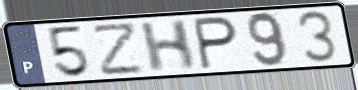3: (295, 9, 340, 65)
5: (44, 24, 94, 80)
9: (246, 10, 291, 70)
H: (138, 17, 198, 75)
P: (191, 15, 240, 72)
Z: (90, 20, 146, 78)
